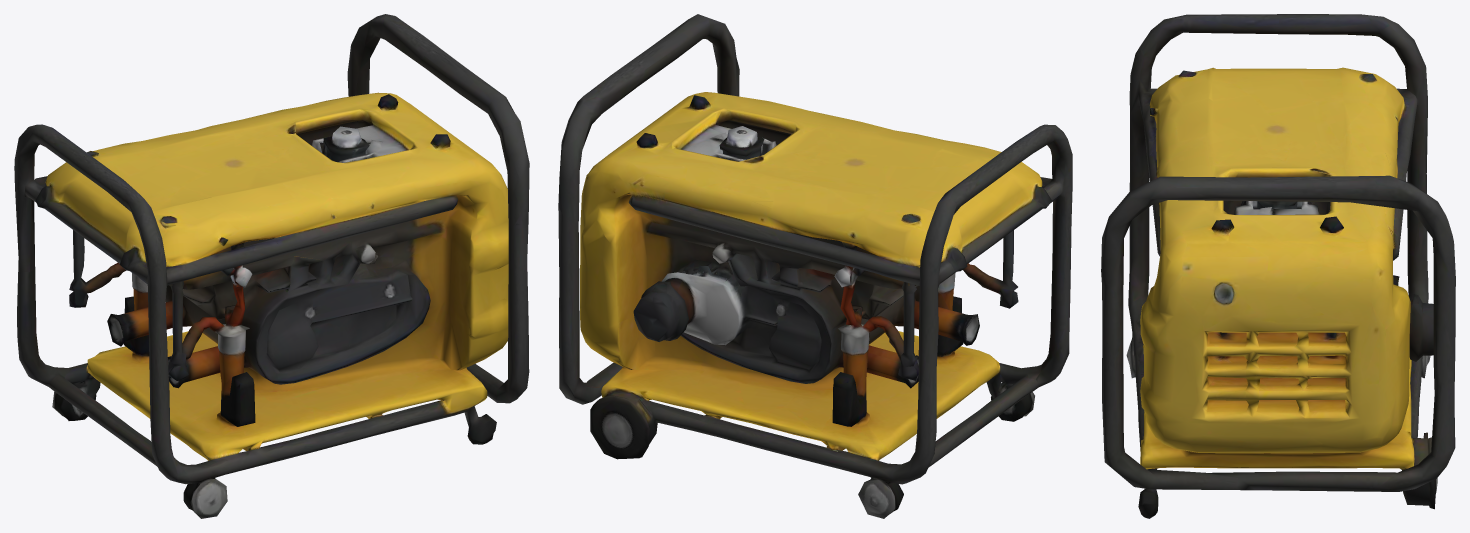
File: generator.glb
3 views of the same model, side by side, from view 1: azimuth 30°, elevation 25°; view 2: azimuth 150°, elevation 25°; view 3: azimuth 270°, elevation 25° (orthographic). The views are drawn at different scales.
Visible parts, largest first — view 1: tripo_node_a3db71be-b7fc-4d99-b20c-207c8a58c1a2; view 2: tripo_node_a3db71be-b7fc-4d99-b20c-207c8a58c1a2; view 3: tripo_node_a3db71be-b7fc-4d99-b20c-207c8a58c1a2.
Boxes of the visible parts, <box> form: tripo_node_a3db71be-b7fc-4d99-b20c-207c8a58c1a2: <box>14,14,529,518</box>; tripo_node_a3db71be-b7fc-4d99-b20c-207c8a58c1a2: <box>558,14,1072,518</box>; tripo_node_a3db71be-b7fc-4d99-b20c-207c8a58c1a2: <box>1101,14,1455,518</box>.
Bounding box in the file's own units: 0.594 × 0.5 × 0.456.
1 material, 1 textured.
